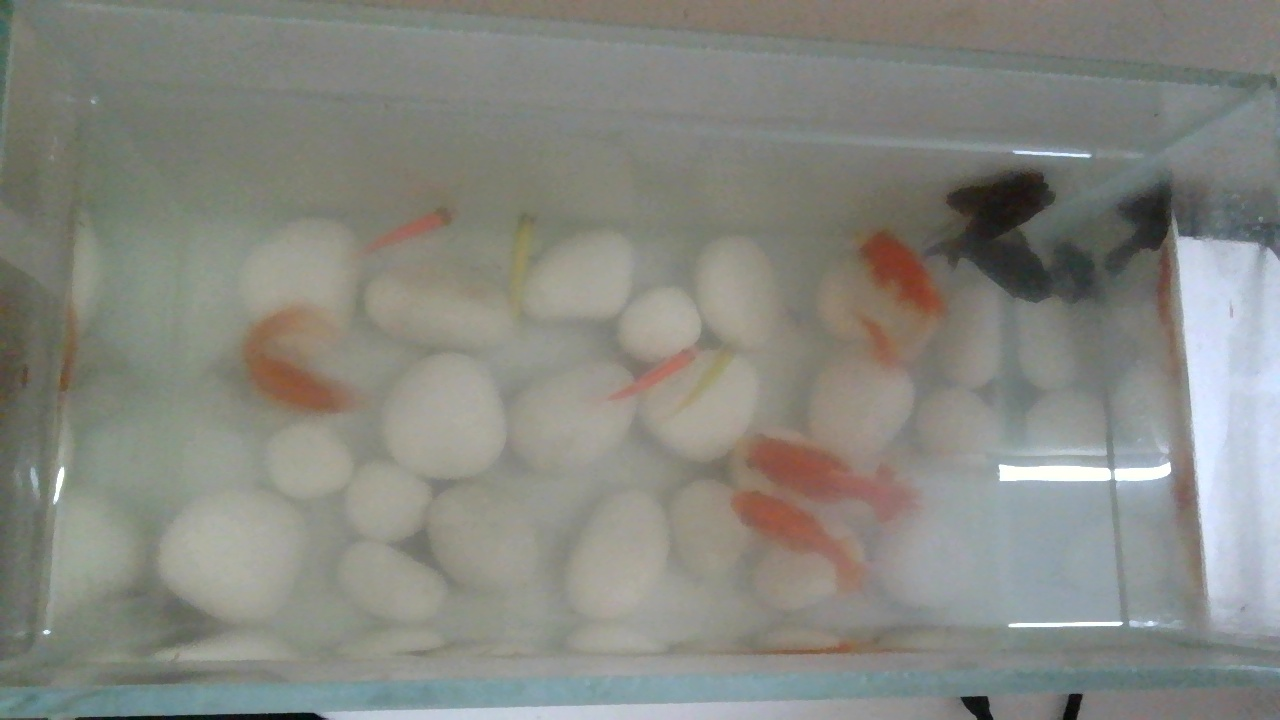fish: (728, 424, 910, 574), (238, 300, 362, 421)
